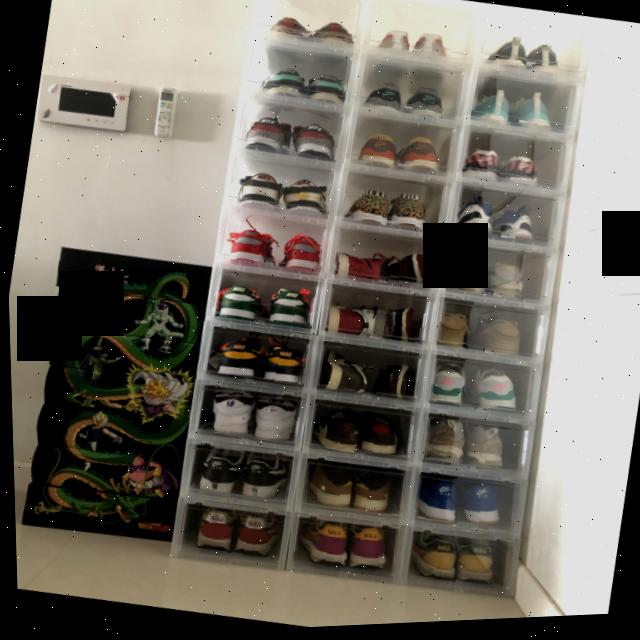shoe: (286, 518, 352, 576), (315, 347, 383, 401), (459, 366, 523, 418), (400, 532, 459, 588), (235, 452, 296, 506), (320, 299, 386, 348), (461, 316, 524, 365), (199, 389, 256, 443), (210, 281, 271, 331), (213, 333, 269, 387), (226, 509, 280, 564), (307, 405, 363, 458), (339, 525, 392, 580), (221, 225, 279, 274), (190, 444, 243, 497), (408, 477, 461, 530), (450, 480, 503, 532), (298, 465, 354, 513), (286, 120, 344, 166), (256, 340, 309, 390), (344, 470, 395, 521), (446, 540, 497, 591), (415, 419, 467, 469), (187, 505, 236, 558), (261, 287, 316, 334), (329, 248, 390, 290), (390, 134, 444, 180), (336, 185, 391, 230), (234, 171, 285, 218), (275, 232, 326, 278), (279, 178, 333, 221), (354, 413, 402, 461), (241, 114, 292, 159), (460, 425, 506, 474), (379, 252, 433, 293), (351, 131, 401, 175), (450, 196, 496, 243), (379, 303, 425, 350), (383, 192, 431, 237), (424, 364, 468, 413), (254, 64, 308, 103), (250, 398, 296, 443), (480, 263, 528, 306), (490, 205, 538, 247), (443, 258, 490, 300), (482, 34, 530, 75), (455, 148, 504, 188), (301, 72, 350, 109), (467, 89, 510, 131), (402, 86, 449, 124), (495, 156, 542, 193), (371, 363, 413, 404), (432, 312, 470, 357), (510, 96, 549, 137), (361, 82, 406, 116), (311, 22, 358, 50), (411, 34, 454, 64), (269, 16, 313, 44), (525, 46, 563, 77), (373, 30, 411, 59)
